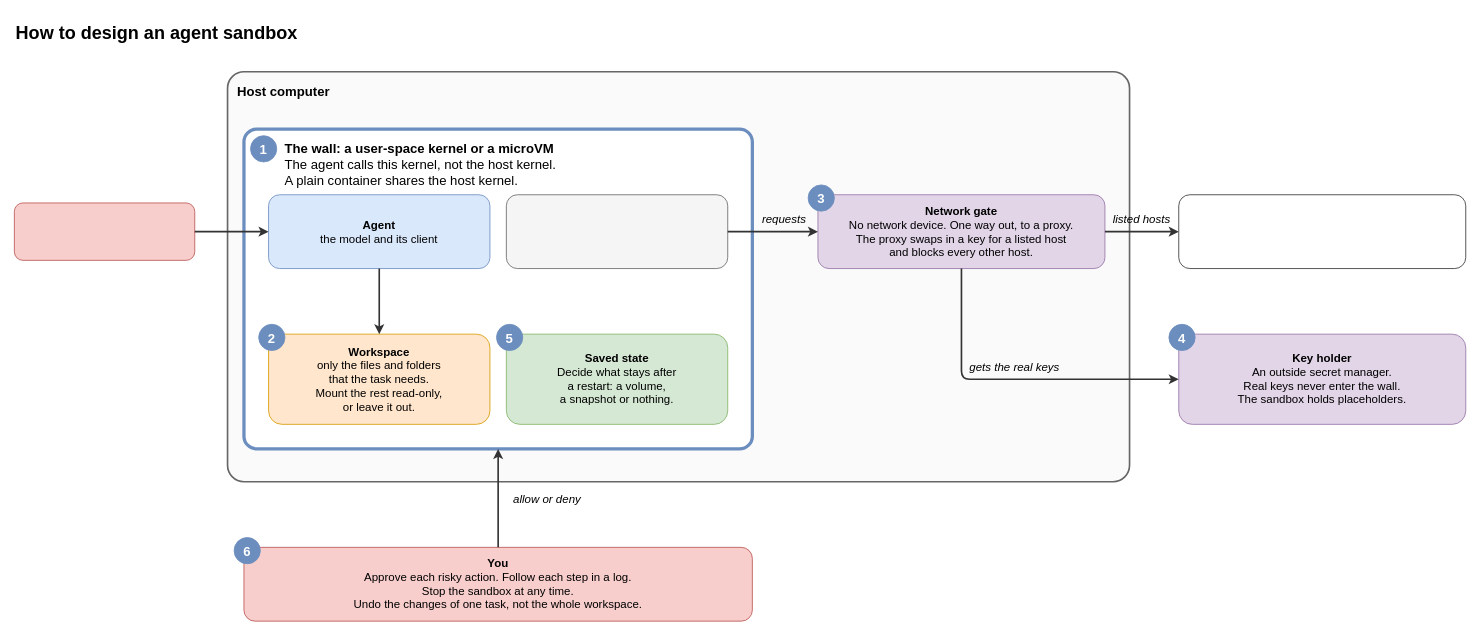
This 1480x636 diagram has some shape labels left out. Here are the shapes that lost their labels. From the top down, the centre of each, then its label:
At point (104, 231): "Your request a task for the agent".
At point (617, 231): "Software the tools that the task needs".
At point (1322, 231): "Outside services APIs, websites and registries".
